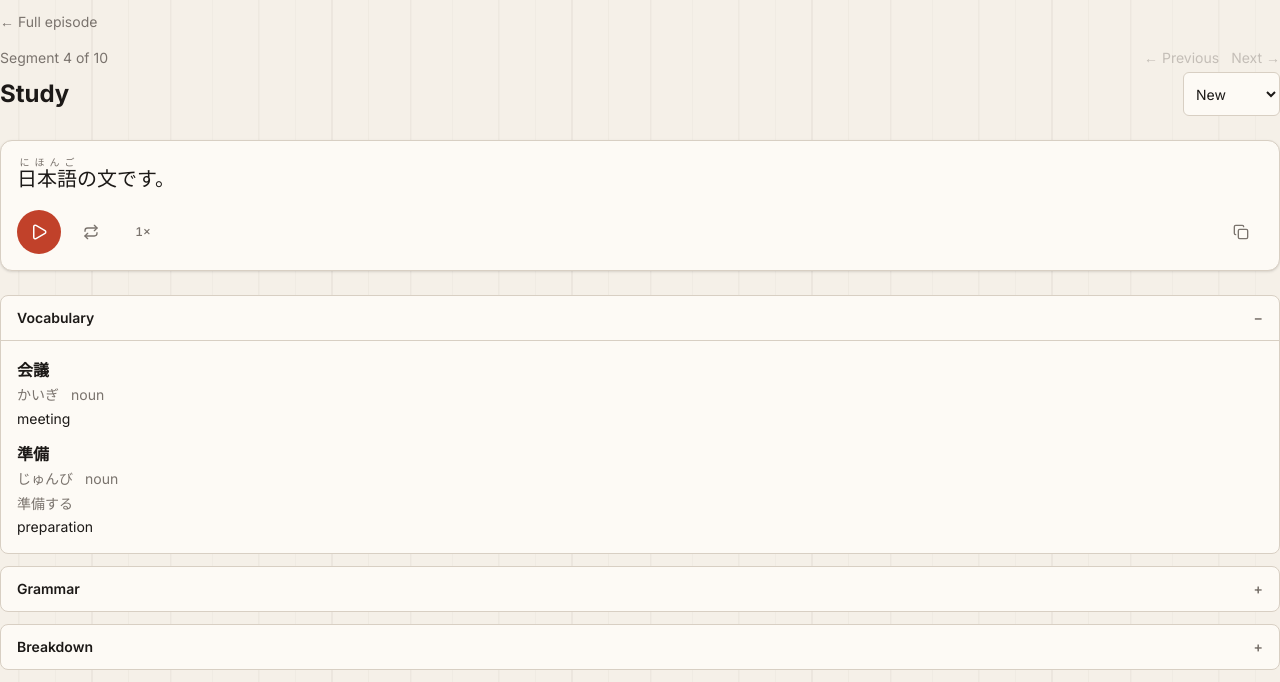
StudyScreen › shows the reading for a structure item when it differs from the pattern text
Click the button "Grammar +" at x=48, y=588, box [1,567,1279,611]
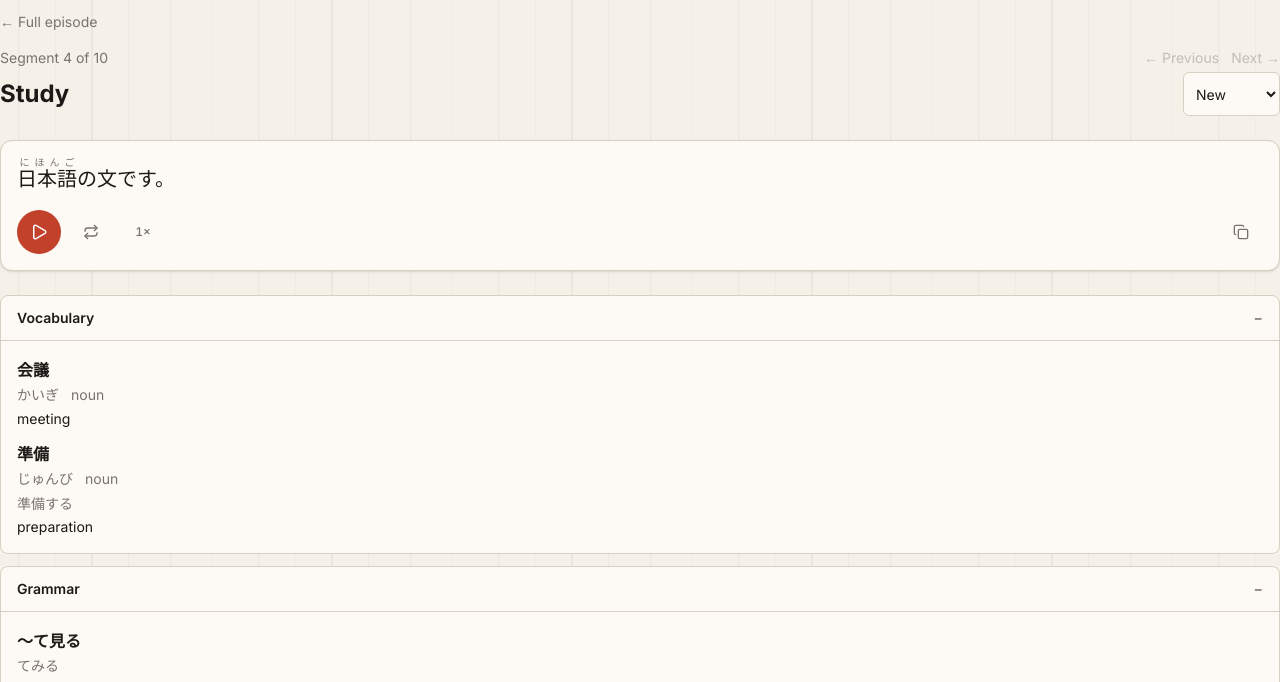
Check: the text "〜て見る" is shown, box [17,628,81,652]
Check: the text "てみる" is shown, box [17,657,59,674]
